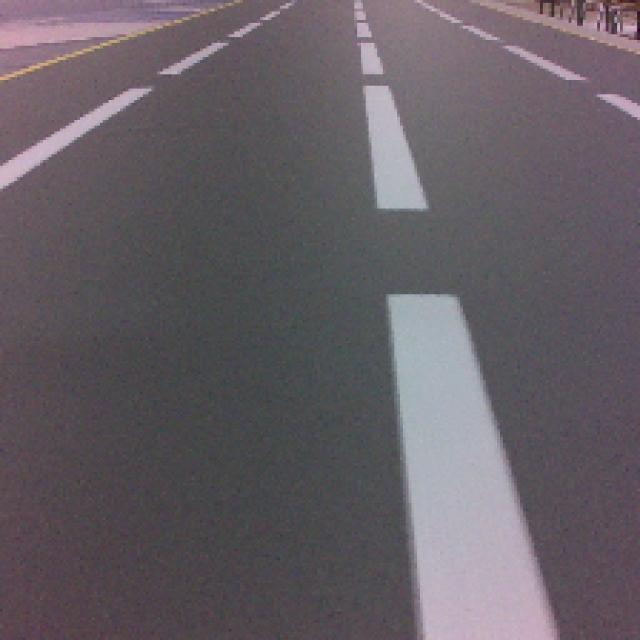Road: (0, 193, 424, 640)
